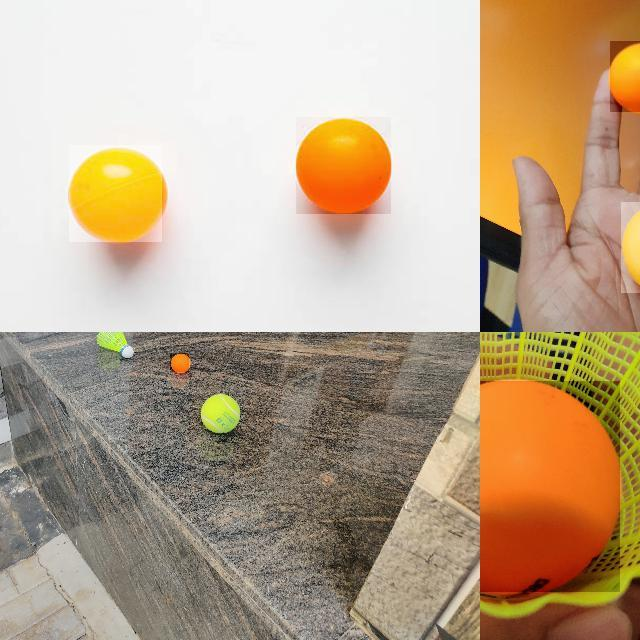ping-pong-ball: (480, 380, 622, 594), (296, 117, 392, 216), (69, 145, 163, 243), (610, 41, 639, 114), (621, 202, 639, 295), (170, 353, 190, 373)
